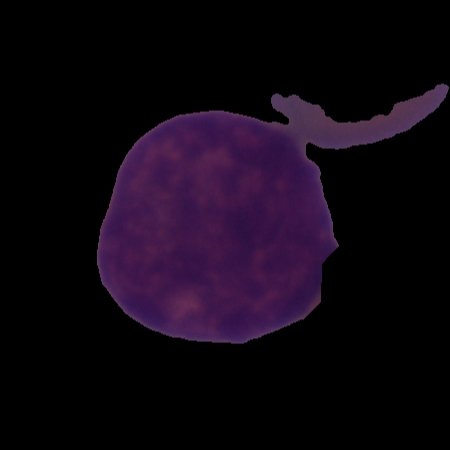ALL: (91, 80, 450, 346)
